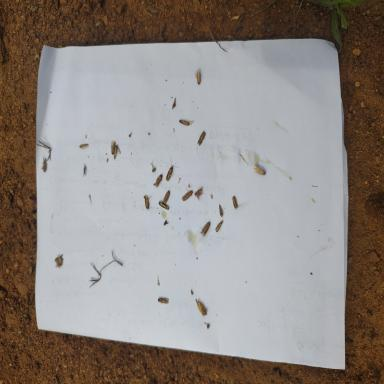pbw: (195, 298, 207, 316), (253, 162, 266, 175), (192, 188, 204, 201), (182, 188, 192, 202), (201, 221, 210, 236), (144, 195, 153, 210), (197, 132, 206, 146), (215, 219, 224, 232), (154, 174, 162, 188), (162, 190, 170, 204), (41, 154, 47, 172), (158, 201, 169, 210), (195, 68, 201, 84), (110, 140, 116, 155), (178, 119, 190, 126), (232, 196, 238, 210), (114, 145, 118, 159), (158, 298, 169, 303), (219, 204, 223, 217), (80, 144, 88, 148)
